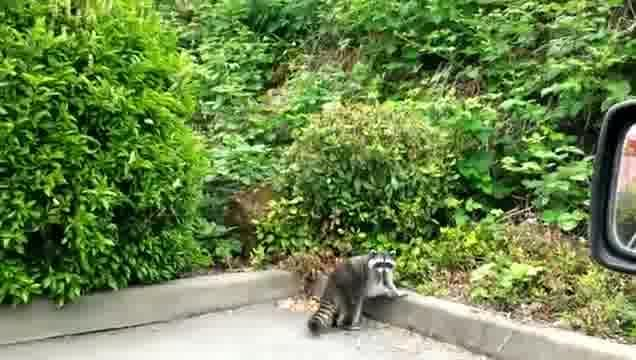raccoon: (306, 255, 409, 345)
